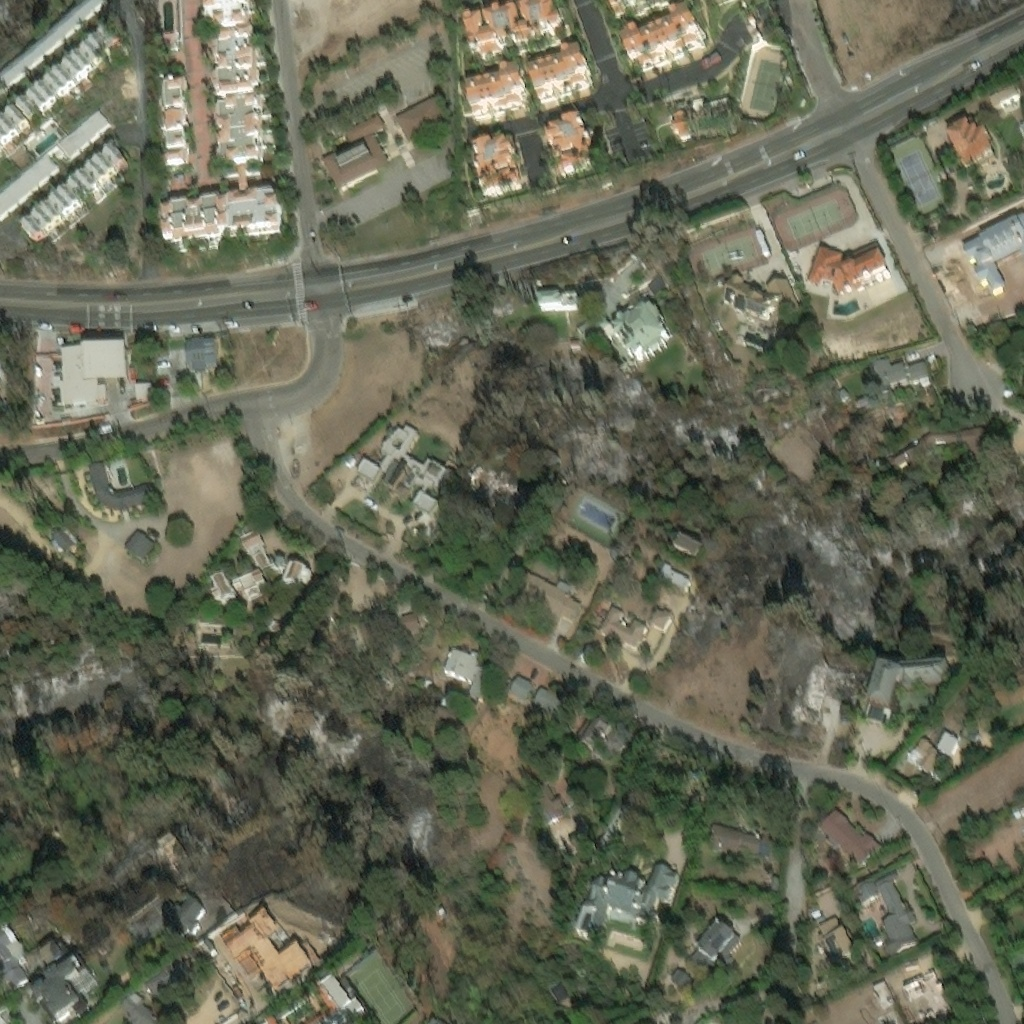0 no-damage: (158, 0, 280, 244), (0, 17, 132, 156), (16, 138, 132, 249), (0, 108, 110, 220), (351, 420, 464, 514), (206, 524, 313, 616), (568, 860, 678, 943), (611, 3, 709, 76), (849, 862, 921, 957), (464, 0, 581, 57), (153, 0, 193, 166), (861, 653, 951, 723), (319, 109, 391, 193), (713, 270, 801, 338), (499, 565, 583, 635), (962, 210, 1023, 304), (53, 334, 127, 409), (804, 236, 892, 296), (607, 290, 670, 370), (524, 39, 596, 108), (29, 954, 96, 1023), (812, 799, 881, 865), (466, 129, 529, 200), (458, 61, 530, 123), (783, 658, 851, 722), (538, 110, 600, 180), (806, 898, 860, 973), (465, 461, 536, 516), (391, 89, 458, 147), (686, 917, 740, 985), (579, 600, 650, 650), (86, 458, 153, 509), (944, 118, 1002, 174), (442, 615, 498, 672), (867, 354, 936, 398), (159, 890, 211, 946), (919, 424, 990, 465), (307, 973, 365, 1023), (707, 821, 772, 858), (901, 971, 954, 1014), (532, 682, 576, 728), (902, 732, 945, 774), (574, 715, 613, 757), (295, 934, 338, 972), (121, 524, 159, 564), (433, 684, 470, 725), (34, 927, 73, 965), (607, 0, 688, 18), (181, 333, 220, 369), (669, 527, 707, 561), (656, 561, 694, 591), (664, 105, 694, 141), (536, 289, 585, 311), (120, 992, 154, 1023), (220, 926, 249, 959), (506, 669, 533, 700), (888, 446, 920, 472), (866, 974, 893, 1003), (935, 725, 960, 753), (236, 953, 261, 979), (668, 964, 695, 988), (648, 605, 674, 629), (196, 935, 220, 961), (255, 980, 276, 1003), (131, 379, 153, 400), (657, 588, 678, 604), (873, 411, 887, 428), (837, 387, 852, 401)
